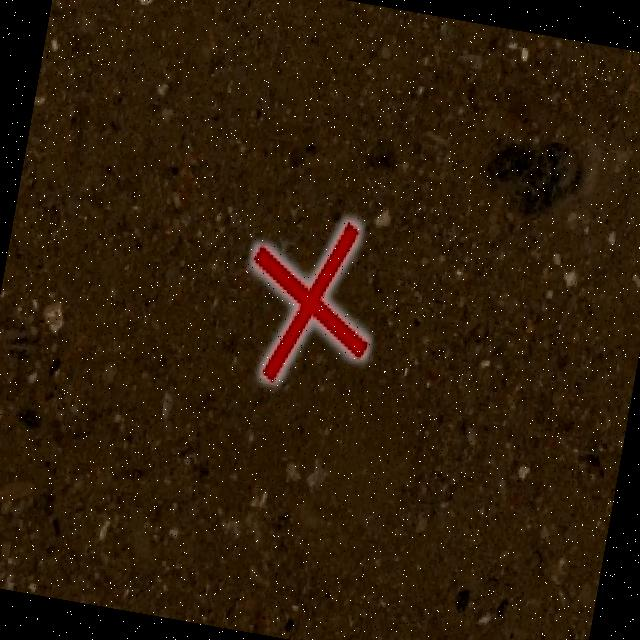x_marker: (233, 206, 386, 393)
